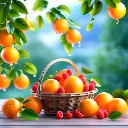orange: (76, 96, 99, 118), (2, 98, 23, 119), (1, 48, 20, 63)
